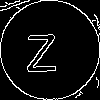Z: (25, 25, 57, 72)
